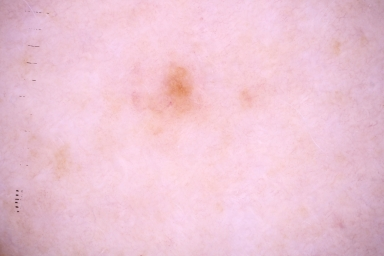melanoma: (167, 69, 194, 112)
